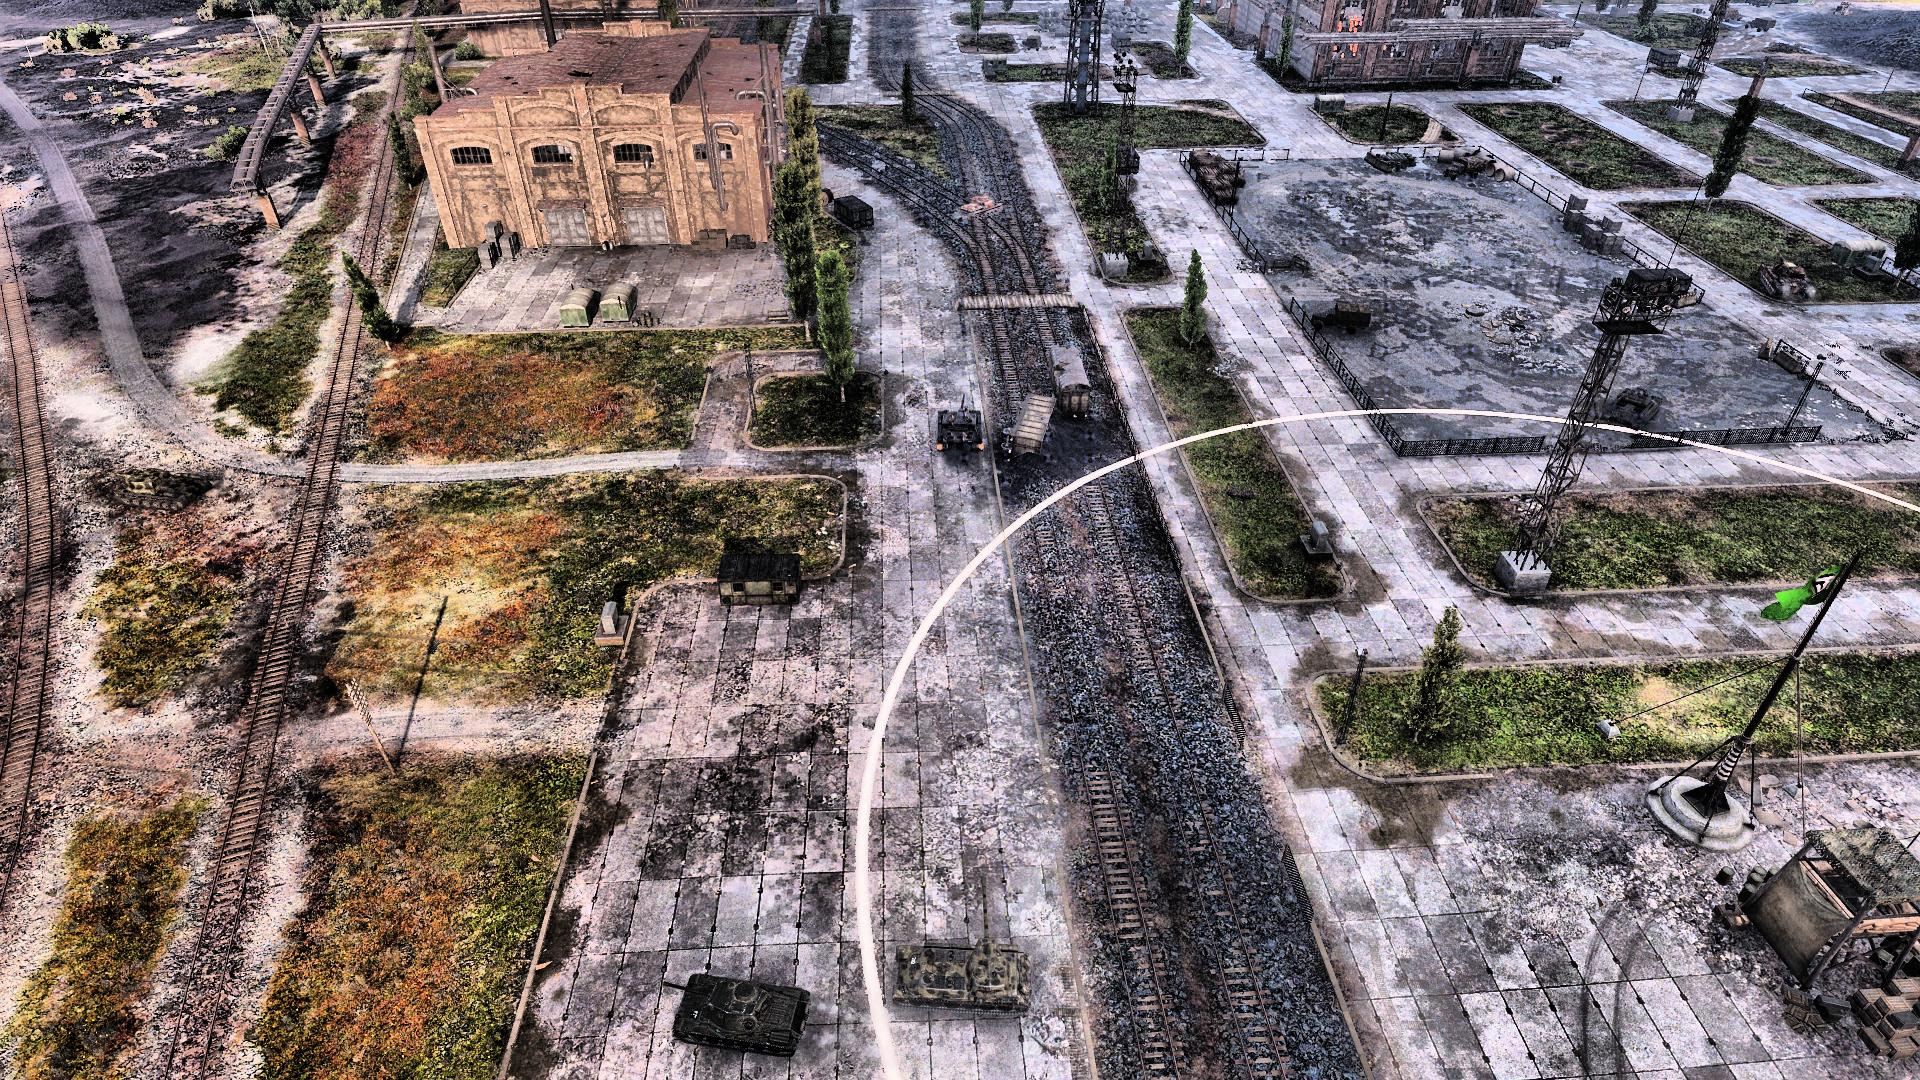military-vehicle: (886, 877, 1035, 1009), (658, 973, 815, 1055), (935, 392, 984, 452)
